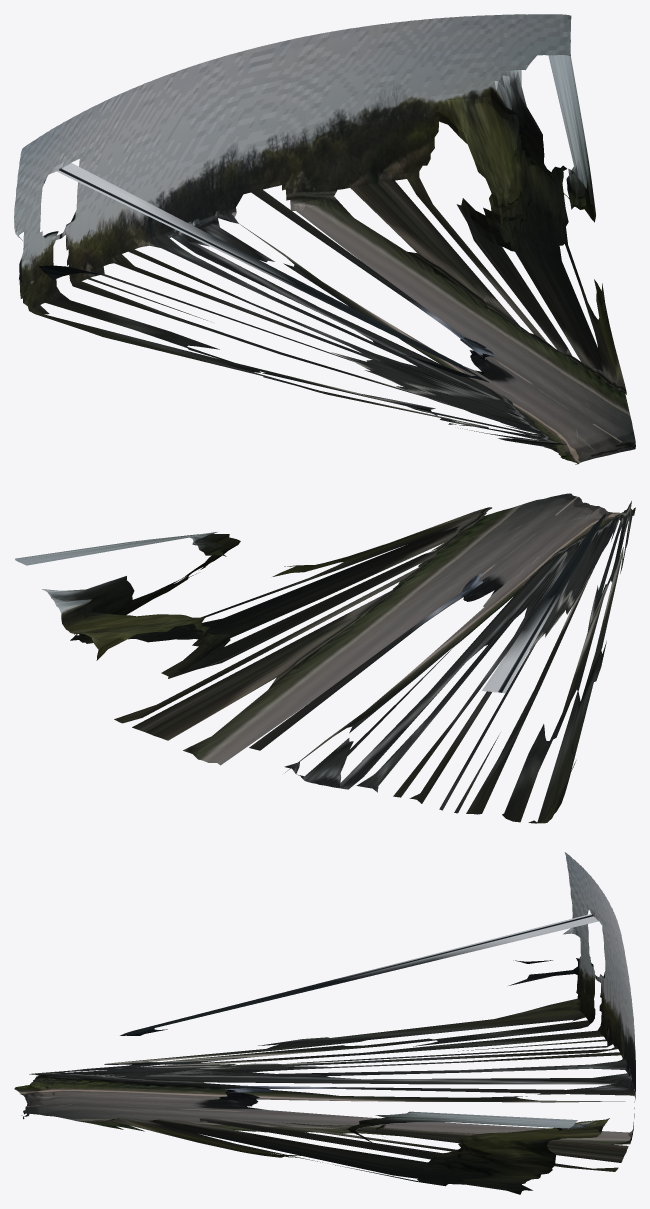
The picture shows the model from 3 angles, top to bottom: view 1: azimuth 30°, elevation 25°; view 2: azimuth 150°, elevation 25°; view 3: azimuth 270°, elevation 25°; orthographic projection. The views are drawn at different scales.
Visible parts, largest first — view 1: defaultobject; view 2: defaultobject; view 3: defaultobject.
Part boxes in pixels (x1,y1,x2,y2): defaultobject: [14, 14, 635, 464]; defaultobject: [15, 493, 635, 823]; defaultobject: [14, 852, 635, 1194].
Size of the model in its own units: 40.95 by 13.23 by 44.91.
Materials: 1 (1 with a texture image).
